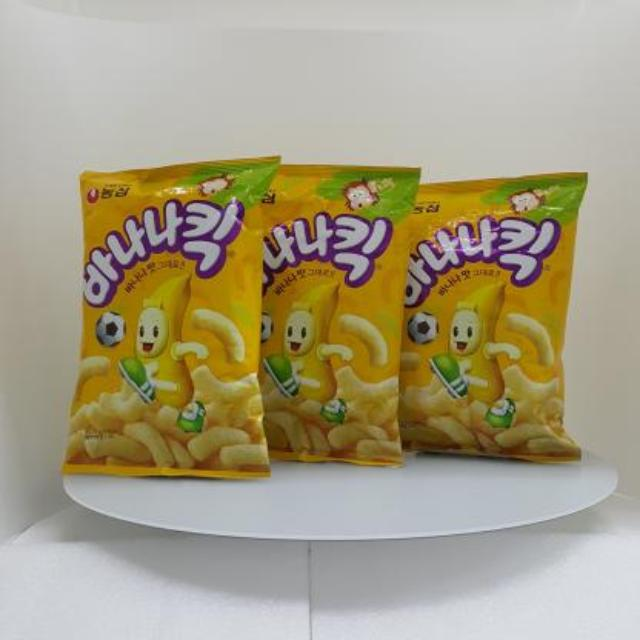snack_bag: (52, 146, 598, 490)
